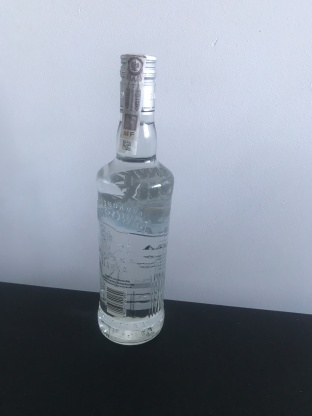nakretka: (117, 49, 158, 117)
